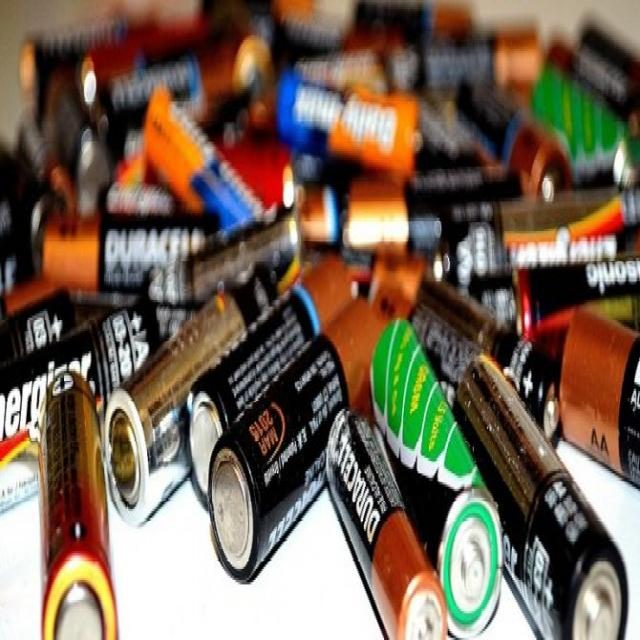non-organic waste: (456, 346, 629, 640), (210, 302, 388, 584), (108, 260, 278, 529), (184, 251, 356, 508), (370, 313, 503, 637), (325, 402, 448, 640), (40, 360, 122, 640)
